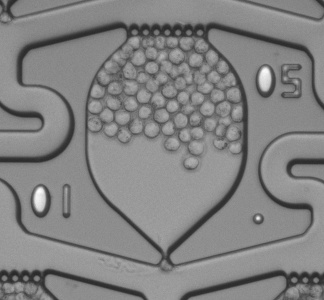AptNum: (250, 57, 306, 103)
Marker: (248, 209, 266, 227)
StNum: (24, 176, 77, 222)
